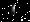person: (8, 4, 15, 16)
